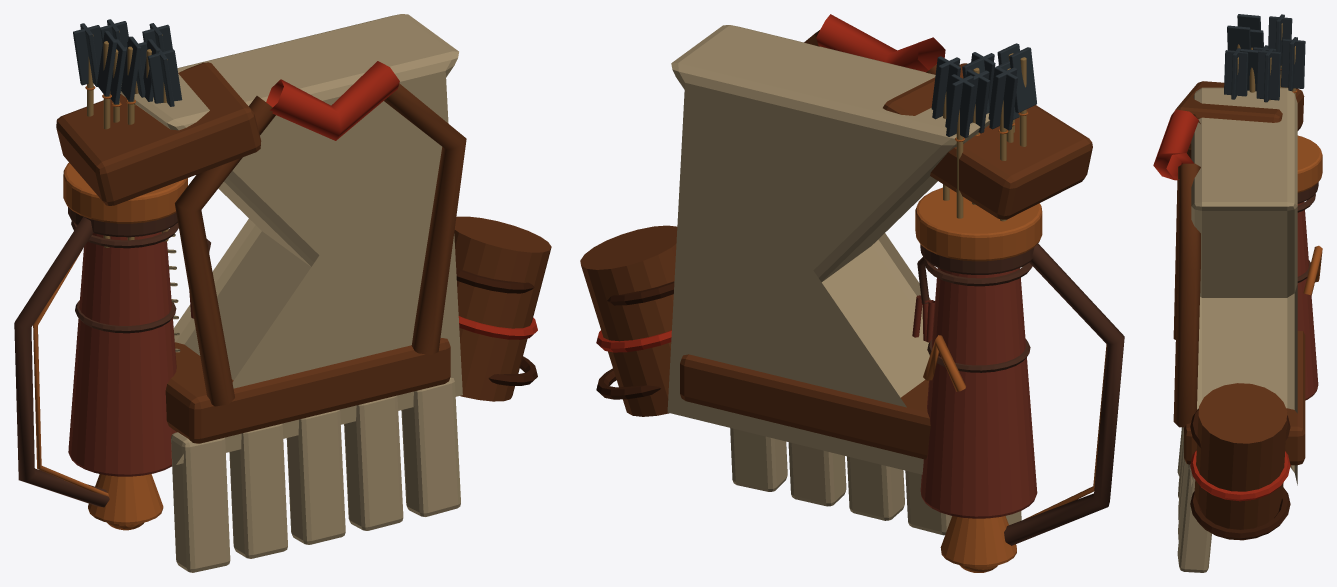
The model's file is archer_role_kit_LOD0.glb.
3 views of the same model, side by side, from view 1: azimuth 30°, elevation 25°; view 2: azimuth 150°, elevation 25°; view 3: azimuth 270°, elevation 25° (orthographic). The views are drawn at different scales.
Visible parts, largest first — view 1: ArcherLightLinothorax, ArcherQuiver_QuiverLeatherBody, ArcherLightShoulderGuard, ArcherLeatherWaistBand, ArcherDrawingBracer, ArcherShoulderHarness.001, ArcherShoulderHarness, ArcherPteruge, ArcherPteruge.004, ArcherPteruge.003, ArcherPteruge.002, ArcherPteruge.001 (+15 smaller); view 2: ArcherLightLinothorax, ArcherQuiver_QuiverLeatherBody, ArcherLeatherWaistBand, ArcherLightShoulderGuard, ArcherDrawingBracer, ArcherQuiver_QuiverShoulderHarness, ArcherQuiver_QuiverMouthRim, ArcherRedRoleScarf, ArcherQuiver_QuiverBronzeToe, ArcherPteruge.003, ArcherPteruge.002, ArcherPteruge.004 (+15 smaller); view 3: ArcherLightLinothorax, ArcherDrawingBracer, ArcherShoulderHarness.001, ArcherQuiver_QuiverLeatherBody, ArcherPteruge.004, ArcherLeatherWaistBand, ArcherLightShoulderGuard, ArcherRedRoleScarf, ArcherBracerBinding, ArcherBracerBinding.001, ArcherQuiver_QuiverMouthRim, ArcherQuiver_QuiverArrowFeather.005 (+16 smaller).
Part boxes in pixels (x1,y1,x2,y2): ArcherLightLinothorax: (120,14,462,464); ArcherQuiver_QuiverLeatherBody: (68,232,176,476); ArcherLightShoulderGuard: (56,62,261,205); ArcherLeatherWaistBand: (165,338,450,443); ArcherDrawingBracer: (454,216,551,401); ArcherShoulderHarness.001: (384,83,466,354); ArcherShoulderHarness: (175,96,275,406); ArcherPteruge: (171,432,230,572); ArcherPteruge.004: (401,377,460,516); ArcherPteruge.003: (344,395,403,530); ArcherPteruge.002: (286,409,345,544); ArcherPteruge.001: (229,423,287,558); ArcherLightLinothorax: (667,25,990,474); ArcherQuiver_QuiverLeatherBody: (920,268,1037,518); ArcherLeatherWaistBand: (680,354,930,459); ArcherLightShoulderGuard: (883,63,1092,219); ArcherDrawingBracer: (580,225,677,416); ArcherQuiver_QuiverShoulderHarness: (1004,243,1124,545); ArcherQuiver_QuiverMouthRim: (915,187,1042,261); ArcherRedRoleScarf: (816,14,945,72); ArcherQuiver_QuiverBronzeToe: (940,516,1016,567); ArcherPteruge.003: (788,442,846,506); ArcherPteruge.002: (847,456,904,520); ArcherPteruge.004: (730,428,787,491); ArcherLightLinothorax: (1191,87,1297,486); ArcherDrawingBracer: (1194,383,1287,540); ArcherShoulderHarness.001: (1173,163,1200,427); ArcherQuiver_QuiverLeatherBody: (1297,202,1318,400); ArcherPteruge.004: (1177,463,1211,572); ArcherLeatherWaistBand: (1184,331,1305,465); ArcherLightShoulderGuard: (1175,81,1304,149); ArcherRedRoleScarf: (1153,109,1198,180); ArcherBracerBinding: (1190,487,1290,539); ArcherBracerBinding.001: (1190,450,1290,501); ArcherQuiver_QuiverMouthRim: (1297,135,1322,192); ArcherQuiver_QuiverArrowFeather.005: (1281,39,1305,88).
Bounding box in the file's own units: 1.19 × 1.12 × 0.3983.
